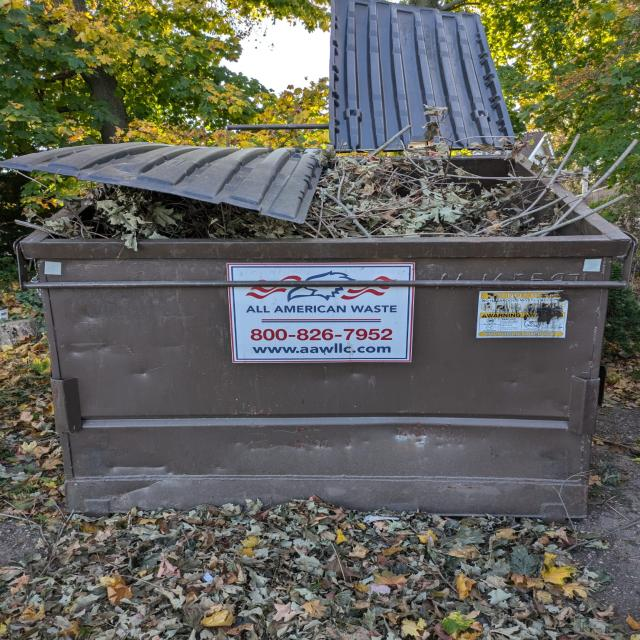Crevice Corrosion: (380, 420, 473, 450)
